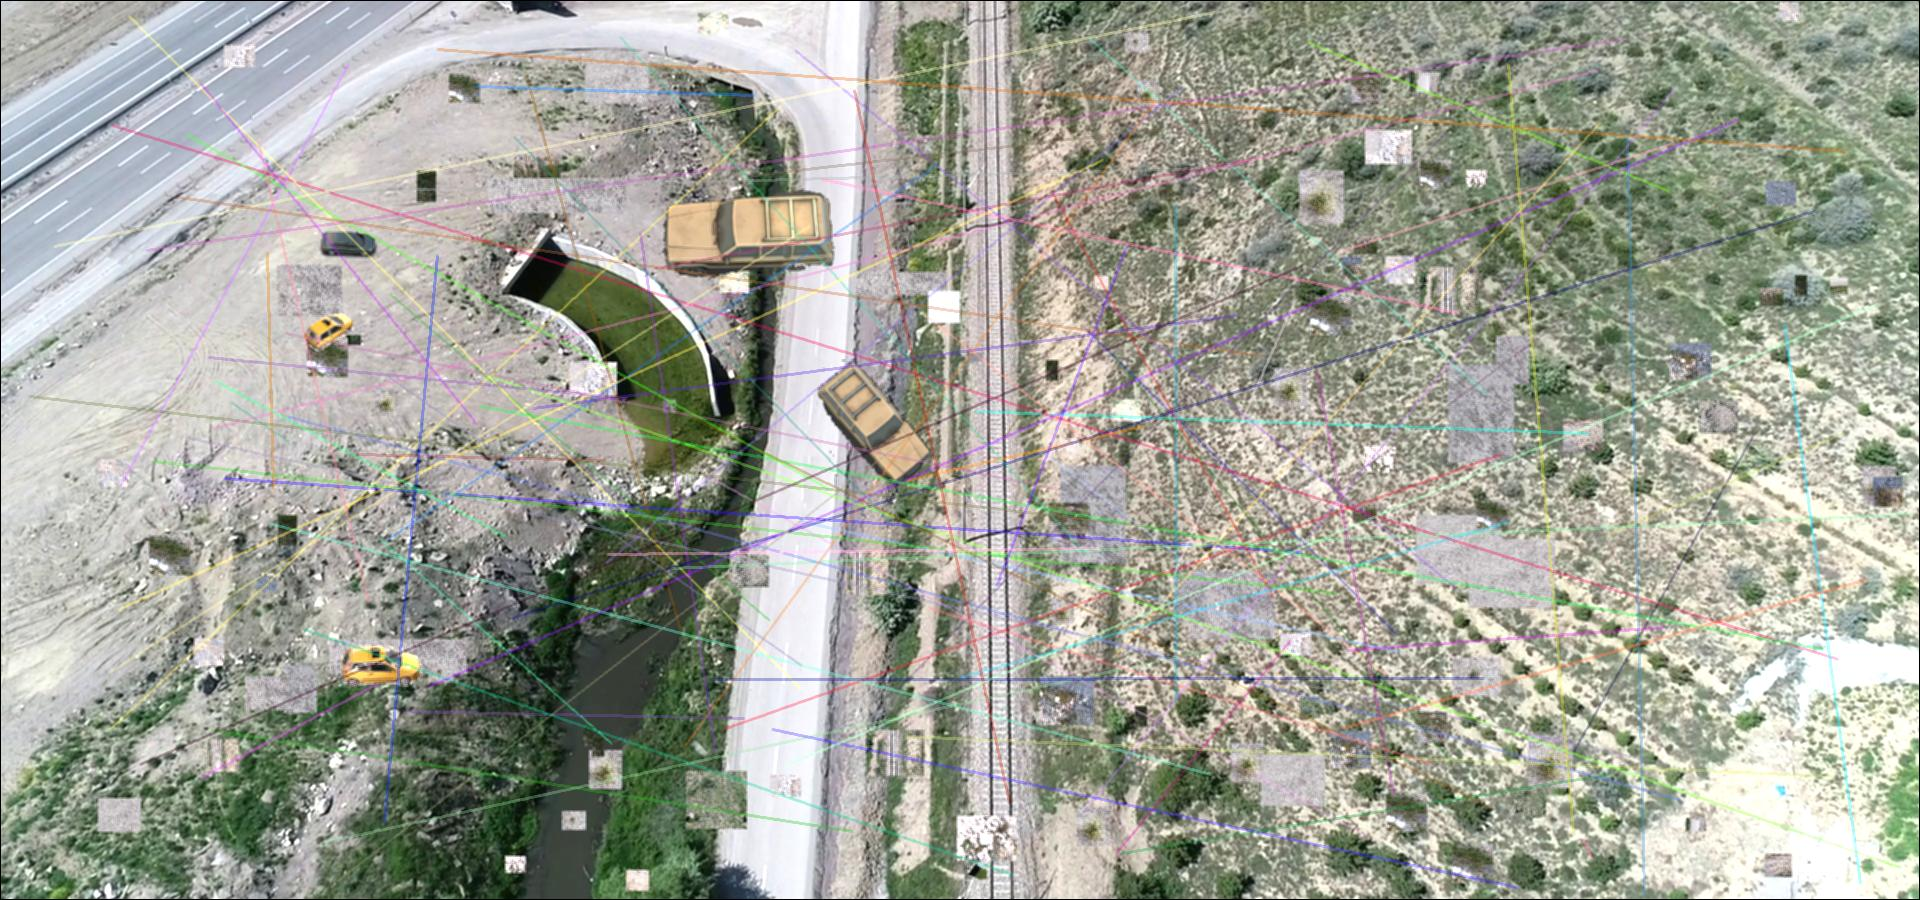arac: (662, 186, 839, 282), (818, 356, 933, 486), (342, 644, 422, 688), (304, 313, 354, 351), (320, 231, 378, 260)
